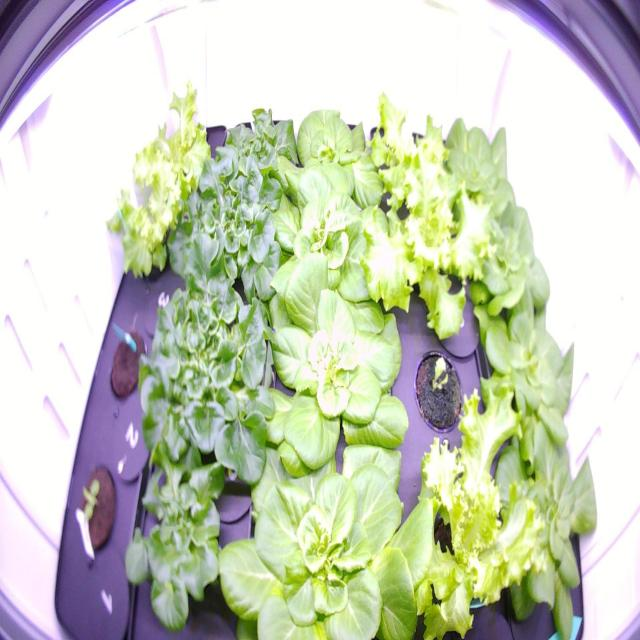pod: (103, 324, 152, 408)
young: (200, 424, 442, 638), (232, 251, 421, 483), (464, 413, 600, 638), (244, 162, 406, 335), (464, 288, 584, 480), (440, 191, 552, 337), (265, 94, 390, 224), (422, 108, 520, 229), (72, 456, 121, 564)
